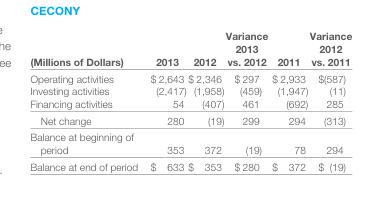table: (29, 29, 351, 171)
table column: (29, 29, 143, 171), (224, 29, 269, 171), (143, 29, 186, 171), (308, 29, 351, 171), (269, 29, 308, 171), (186, 29, 224, 171)
table column header: (29, 29, 351, 69)
table row: (29, 29, 351, 69), (29, 128, 351, 157), (29, 111, 351, 128), (29, 69, 351, 84), (29, 96, 351, 111), (29, 157, 351, 171), (29, 84, 351, 96)
